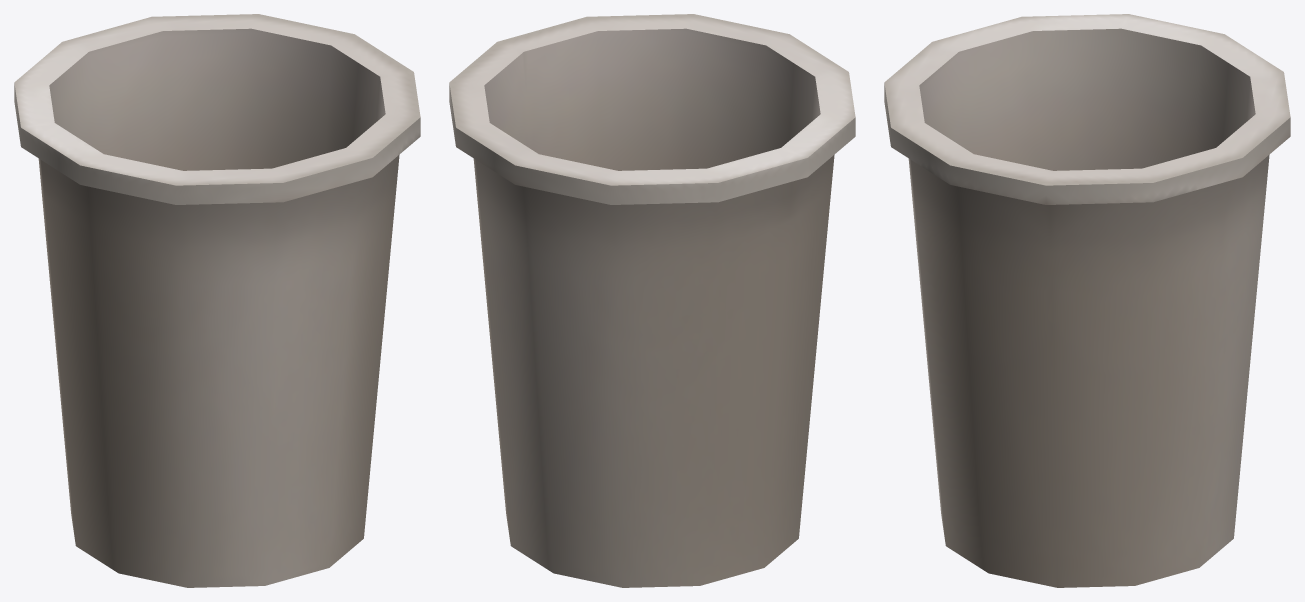
File: ShenMiRenJia_01_xiaolajitong_01.FBX
3 renders of one model, left to right at view 1: azimuth 30°, elevation 25°; view 2: azimuth 150°, elevation 25°; view 3: azimuth 270°, elevation 25°, orthographic.
Visible parts, largest first — view 1: ShenMiRenJia_01_xiaolajitong_01; view 2: ShenMiRenJia_01_xiaolajitong_01; view 3: ShenMiRenJia_01_xiaolajitong_01.
Part boxes in pixels (box(x1,y1,x2,y2)): ShenMiRenJia_01_xiaolajitong_01: box(14, 14, 420, 587); ShenMiRenJia_01_xiaolajitong_01: box(449, 14, 855, 587); ShenMiRenJia_01_xiaolajitong_01: box(884, 14, 1290, 587).
Size of the model in its own units: 92.57 by 107 by 92.57.
